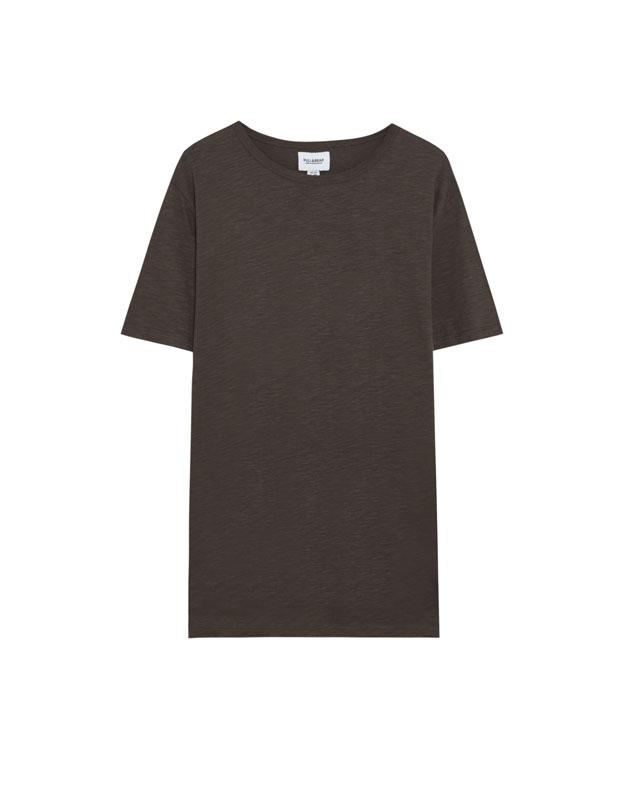teeshirt: (89, 118, 531, 744)
